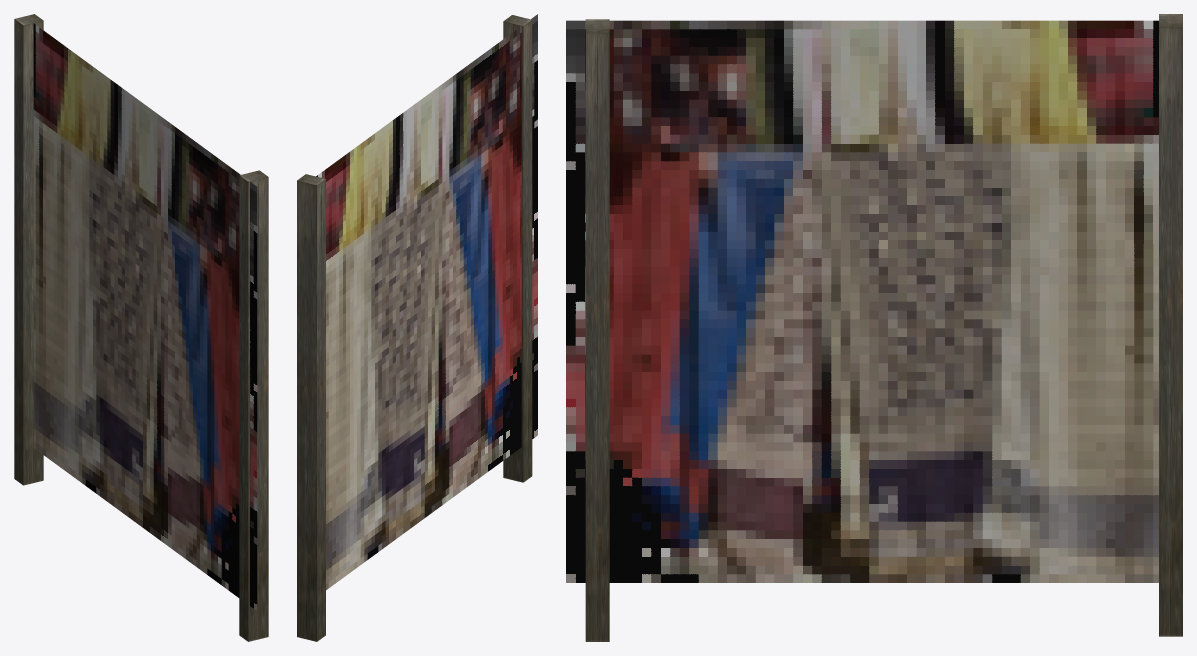
The model's file is clothing.glb.
3 views of the same model, side by side, from view 1: azimuth 30°, elevation 25°; view 2: azimuth 150°, elevation 25°; view 3: azimuth 270°, elevation 25° (orthographic). The views are drawn at different scales.
Parts seen in each view (by area): view 1: clothing.ms3d.mo; view 2: clothing.ms3d.mo; view 3: clothing.ms3d.mo.
Part boxes in pixels (x1,y1,x2,y2): clothing.ms3d.mo: [14, 14, 268, 641]; clothing.ms3d.mo: [297, 14, 537, 641]; clothing.ms3d.mo: [566, 14, 1182, 641].
Bounding box in the file's own units: 1.27 × 19.5 × 17.88.
2 materials, 2 textured.
